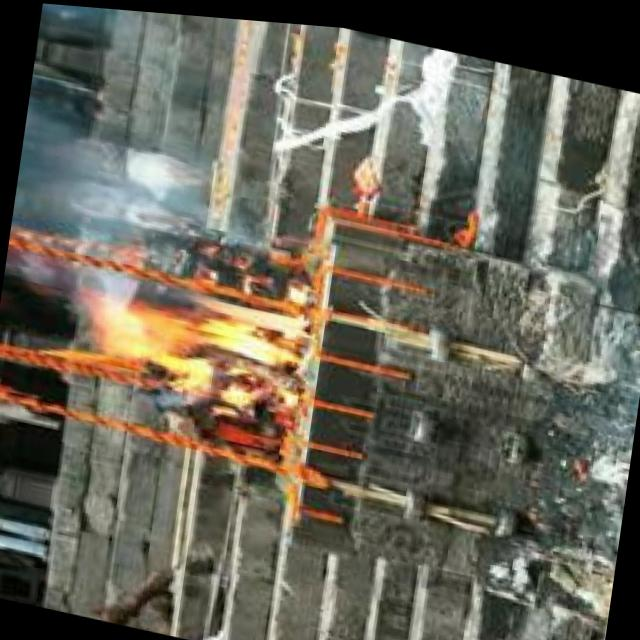Fire: (85, 264, 318, 419)
